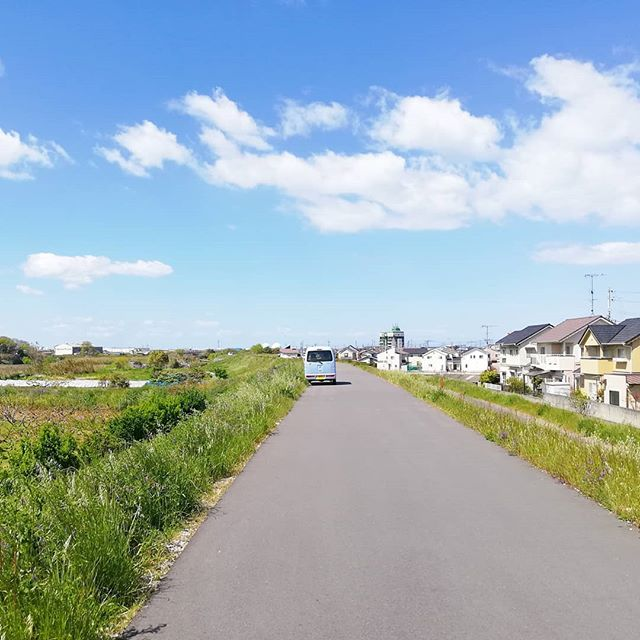building: (572, 313, 640, 430), (534, 308, 580, 399), (491, 312, 545, 389), (375, 329, 452, 371), (460, 343, 490, 374)
car: (295, 349, 339, 386)
road: (176, 380, 627, 631)
sky: (1, 1, 637, 320)
vegetation: (1, 353, 290, 604)
